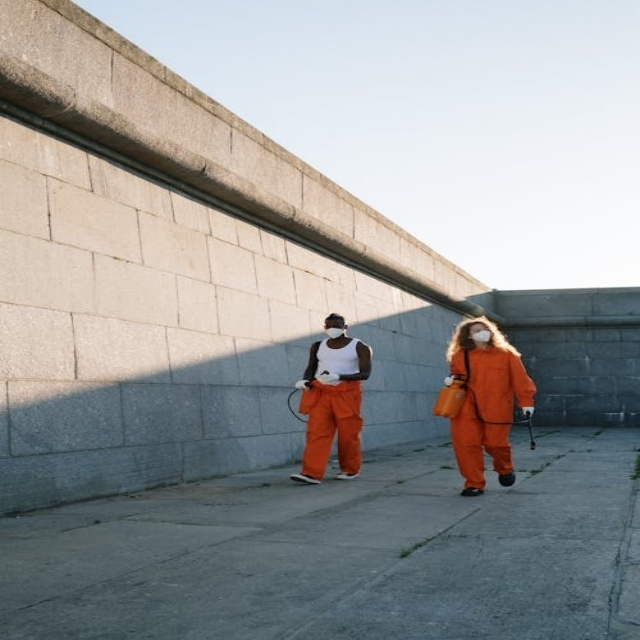Guantes: (316, 372, 340, 385), (295, 380, 310, 390), (522, 407, 535, 417), (444, 376, 453, 386)
Mascara: (470, 330, 492, 342), (325, 327, 345, 339)
